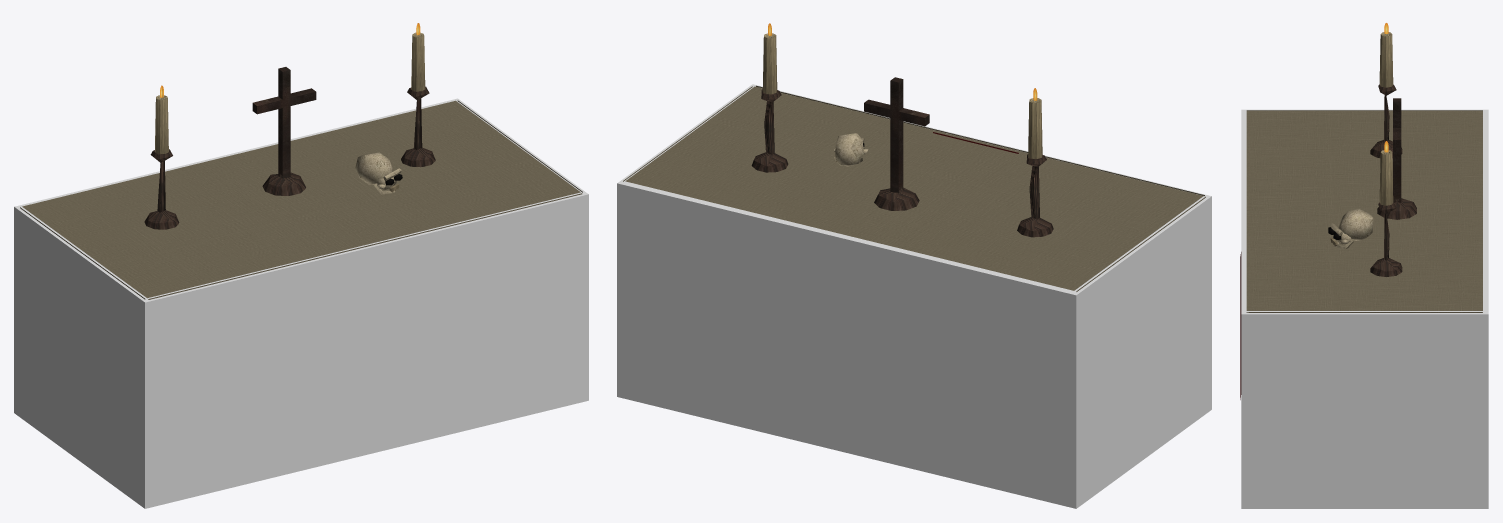
Rendered from altar_cloth_v1_lite.glb.
3 views of the same model, side by side, from view 1: azimuth 30°, elevation 25°; view 2: azimuth 150°, elevation 25°; view 3: azimuth 270°, elevation 25° (orthographic). The views are drawn at different scales.
Visible parts, largest first — view 1: col_altar, altar; view 2: col_altar, altar; view 3: col_altar, altar.
Part boxes in pixels (bbox=[...]): col_altar: bbox=[14, 98, 588, 508]; altar: bbox=[20, 23, 582, 299]; col_altar: bbox=[617, 84, 1211, 508]; altar: bbox=[623, 23, 1205, 291]; col_altar: bbox=[1241, 109, 1488, 508]; altar: bbox=[1240, 23, 1482, 399].
Bounding box in the file's own units: 2.25 × 1.7 × 1.15.
Materials: 9 (9 with a texture image).
